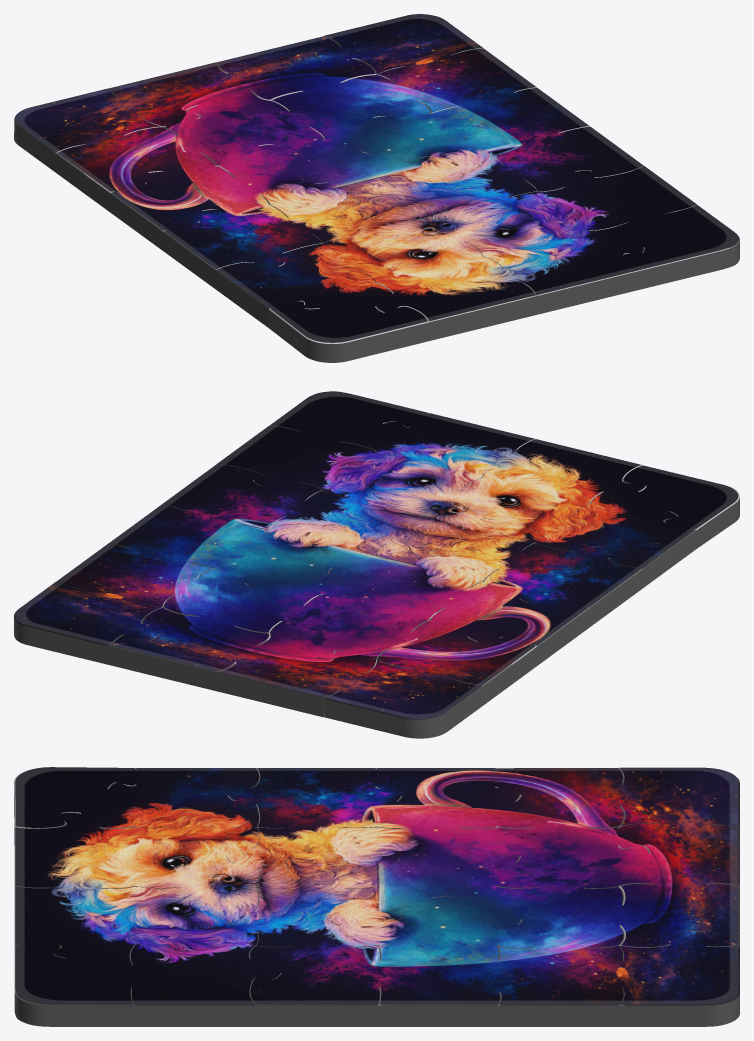
The model's file is Jigsaw Final 6x4 Grid.fbx.
The picture shows the model from 3 angles, top to bottom: view 1: azimuth 30°, elevation 25°; view 2: azimuth 150°, elevation 25°; view 3: azimuth 270°, elevation 25°; orthographic projection. The views are drawn at different scales.
Visible parts, largest first — view 1: Tile_26, Tile_28, Tile_27, Tile_25, Tile_36, Tile_32, Tile_40, Tile_44, Tile_39, Tile_35, Tile_34, Tile_43 (+12 smaller); view 2: Tile_48, Tile_45, Tile_46, Tile_47, Tile_36, Tile_44, Tile_40, Tile_32, Tile_39, Tile_35, Tile_34, Tile_26 (+12 smaller); view 3: Tile_33, Tile_29, Tile_41, Tile_45, Tile_25, Tile_37, Tile_39, Tile_35, Tile_34, Tile_31, Tile_27, Tile_36 (+12 smaller).
Part boxes in pixels (<box>): Tile_26: <box>483,231,644,314</box>; Tile_28: <box>269,283,429,362</box>; Tile_27: <box>375,256,536,340</box>; Tile_25: <box>591,205,739,288</box>; Tile_36: <box>162,205,322,289</box>; Tile_32: <box>216,243,375,327</box>; Tile_40: <box>109,166,269,250</box>; Tile_44: <box>55,127,216,211</box>; Tile_39: <box>213,140,376,205</box>; Tile_35: <box>270,179,430,243</box>; Tile_34: <box>373,152,536,217</box>; Tile_43: <box>158,101,323,166</box>; Tile_48: <box>322,660,484,738</box>; Tile_45: <box>14,581,162,665</box>; Tile_46: <box>110,607,270,691</box>; Tile_47: <box>215,633,376,717</box>; Tile_36: <box>483,543,643,626</box>; Tile_44: <box>377,620,537,704</box>; Tile_40: <box>430,581,590,664</box>; Tile_32: <box>536,504,696,587</box>; Tile_39: <box>324,555,487,619</box>; Tile_35: <box>376,516,543,581</box>; Tile_34: <box>270,490,427,554</box>; Tile_26: <box>376,413,539,477</box>; Tile_33: <box>249,932,380,1026</box>; Tile_29: <box>130,943,281,1026</box>; Tile_41: <box>469,933,624,1026</box>; Tile_45: <box>591,931,739,1026</box>; Tile_25: <box>14,943,161,1026</box>; Tile_37: <box>348,943,500,1026</box>; Tile_39: <box>369,811,520,897</box>; Tile_35: <box>227,812,399,888</box>; Tile_34: <box>228,872,401,947</box>; Tile_31: <box>107,810,260,888</box>; Tile_27: <box>14,813,140,888</box>; Tile_36: <box>228,768,402,828</box>.
Bounding box in the file's own units: 18.67 × 0.8059 × 24.05.
3 materials, 2 textured.
